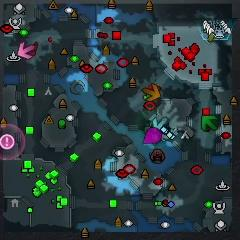Other: (0, 134, 15, 150)
p3: (143, 127, 163, 144)
x1: (17, 42, 36, 60)
x2: (203, 28, 217, 41)
x3: (153, 117, 168, 130)
x4: (201, 115, 217, 132)
x5: (142, 83, 160, 102)
